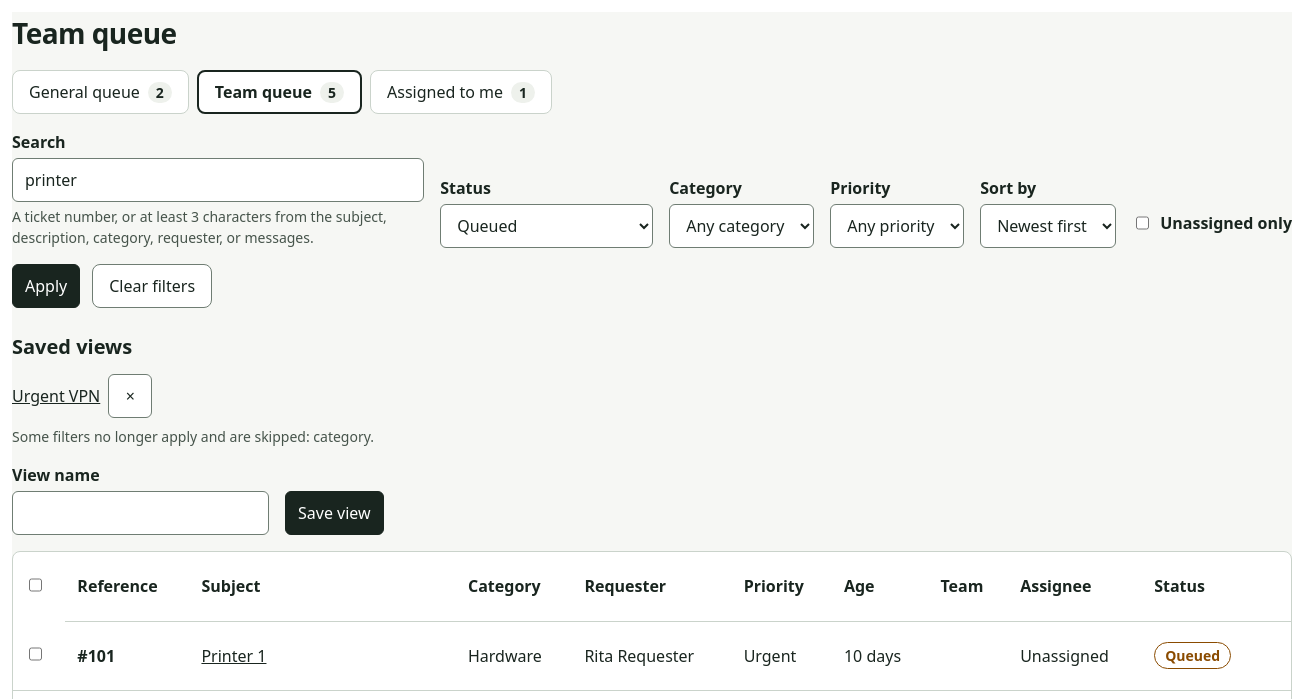
Test: lists saved views, skipping stale filters, and saves the current filters
Expected: the element "Saved views" shows "Some filters no longer apply and are skipped: category.", [12,427,374,446]
Expected: the button named "Delete view Urgent VPN" is shown, [108,374,152,418]
In the field labelled "View name": {"x": 140, "y": 513} [12,491,269,535], type "Printers"
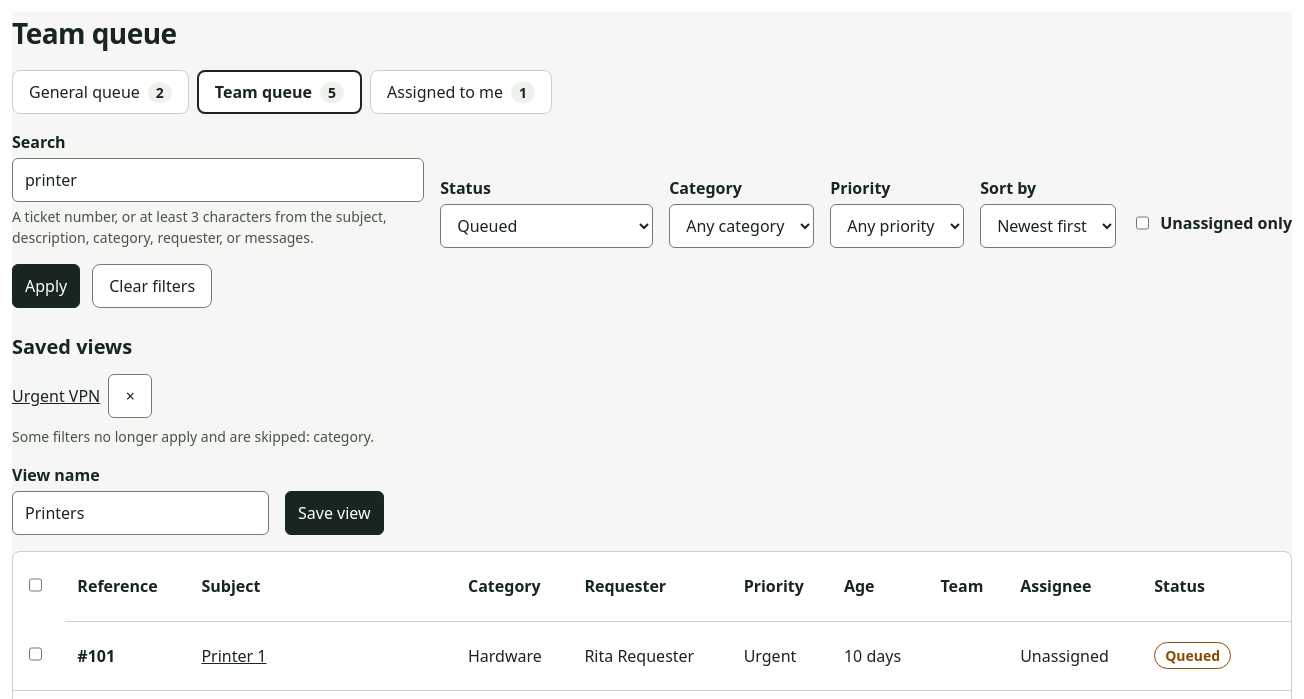
Submit the form named "Save these filters as a view", box [12,464,384,535]
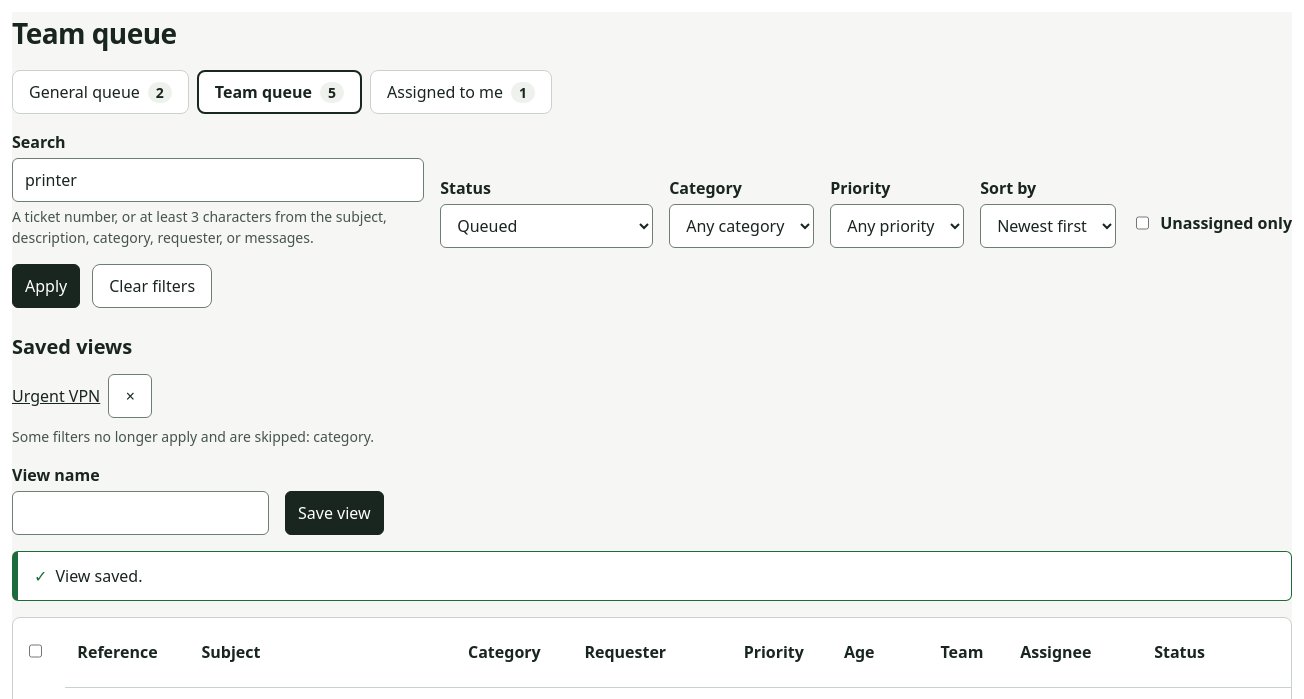
Result: the text "View saved." is shown at [12,551,1292,601]
